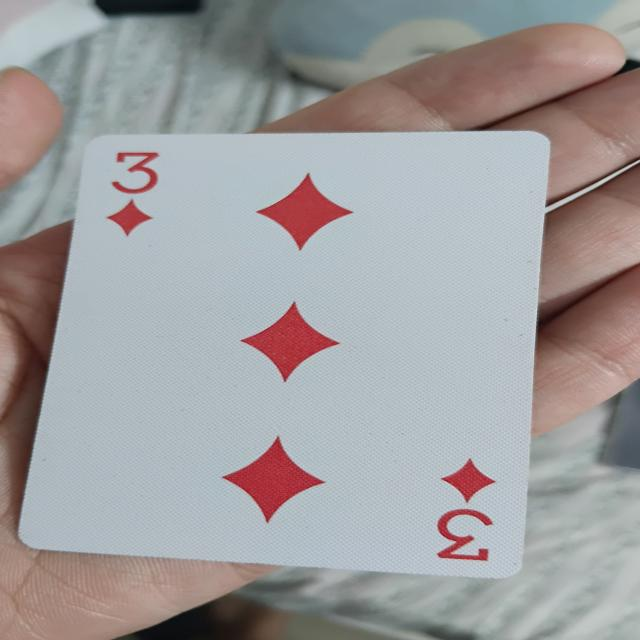3D: (95, 137, 527, 572)
